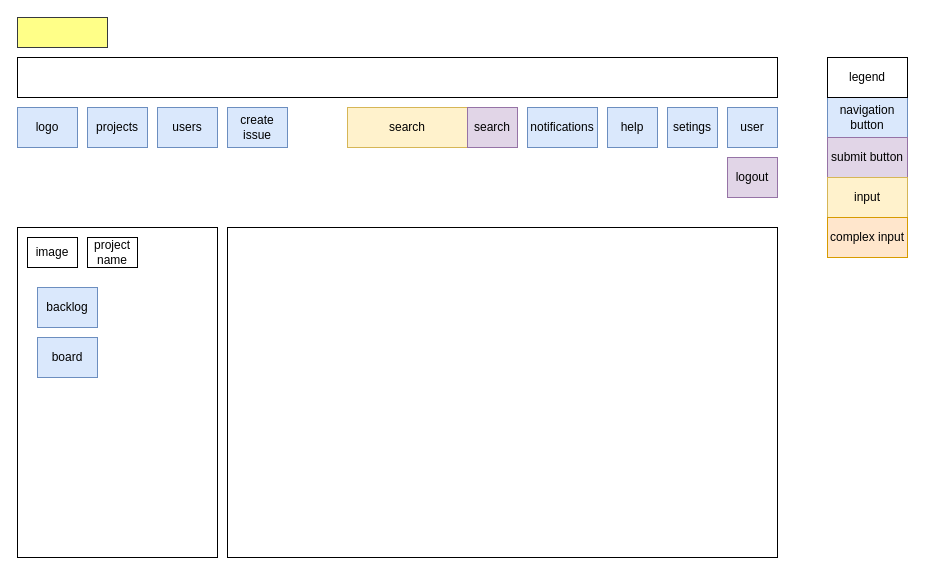
Image size: 925x575. Some labels were removed from this diagram. The shapes that lost their labels are listed below. From the top down, each one's box as (x1, y1, x2, y2) in pixels, then its label:
(16, 16, 108, 48): layout
(16, 56, 778, 98): navbar
(16, 226, 218, 558): sidebar
(226, 226, 778, 558): content
